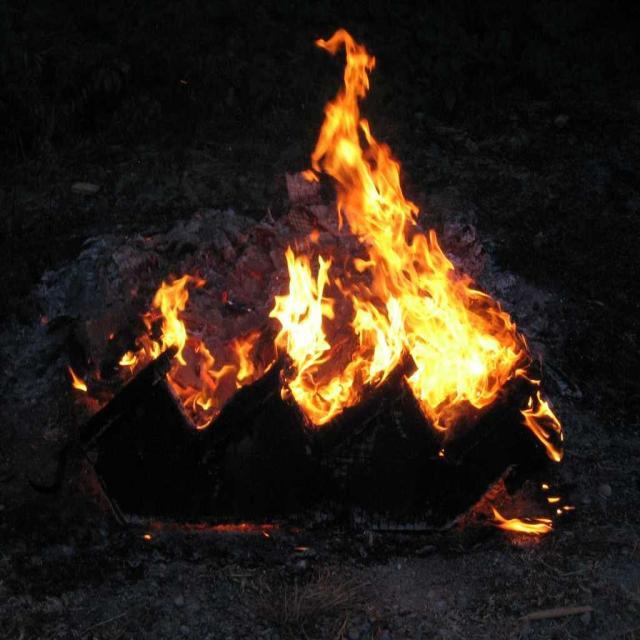Fire: (409, 283, 500, 390), (331, 120, 379, 205), (291, 280, 325, 378)
